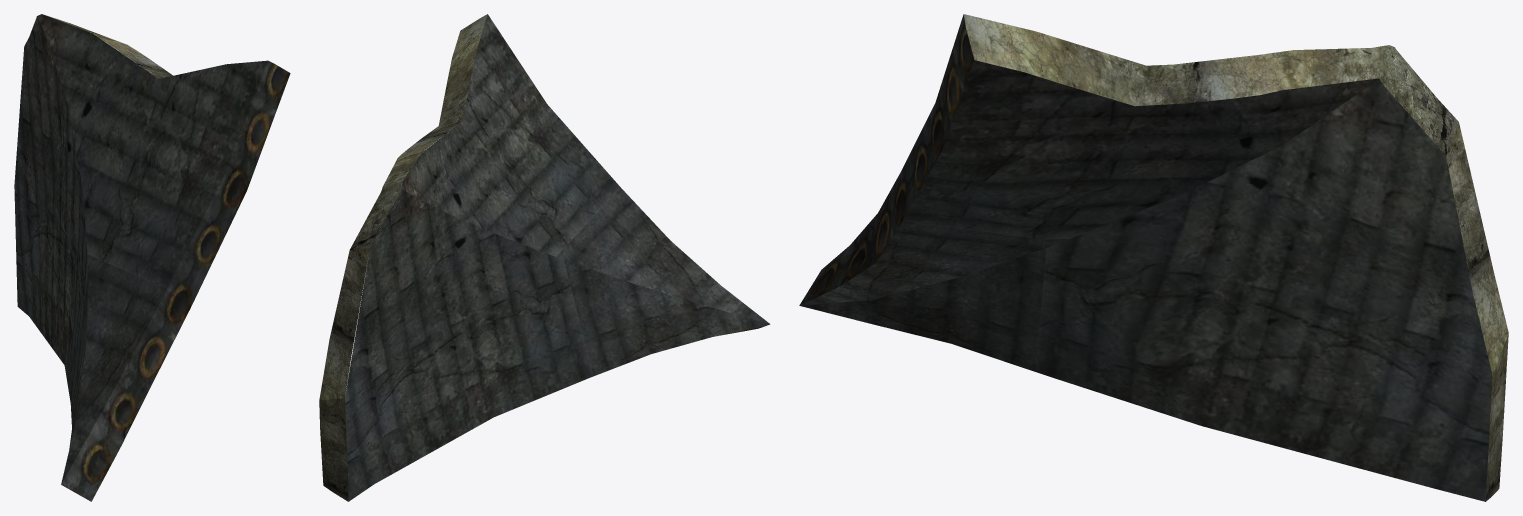
Rendered from TW2_9_ADDONS_12_6_4-transformed.glb.
3 renders of one model, left to right at view 1: azimuth 30°, elevation 25°; view 2: azimuth 150°, elevation 25°; view 3: azimuth 270°, elevation 25°, orthographic. The views are drawn at different scales.
Visible parts, largest first — view 1: default; view 2: default; view 3: default.
Part boxes in pixels (x1,y1,x2,y2): default: [14, 14, 290, 501]; default: [319, 14, 770, 501]; default: [799, 14, 1508, 501].
Size of the model in its own units: 1.16 by 1.48 by 1.88.
2 materials, 2 textured.
